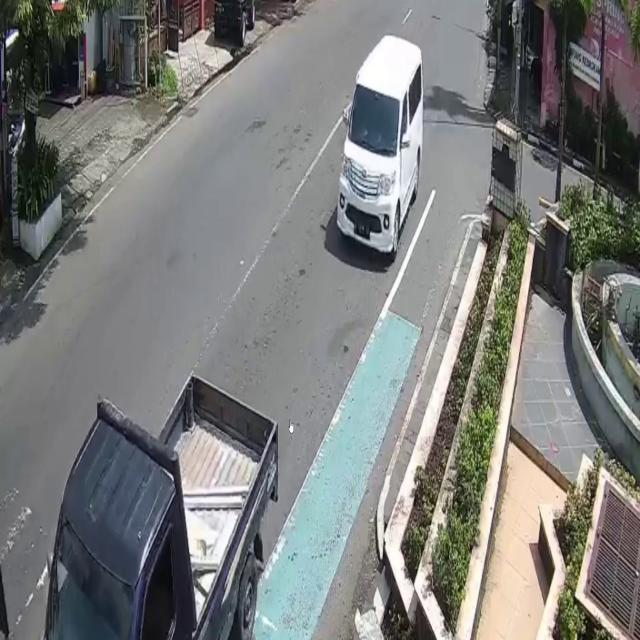car: (43, 370, 280, 640), (338, 32, 423, 262)
